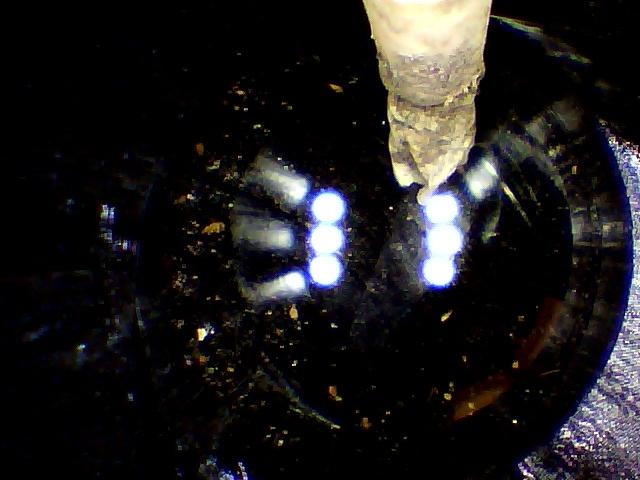megot: (346, 1, 506, 208)
